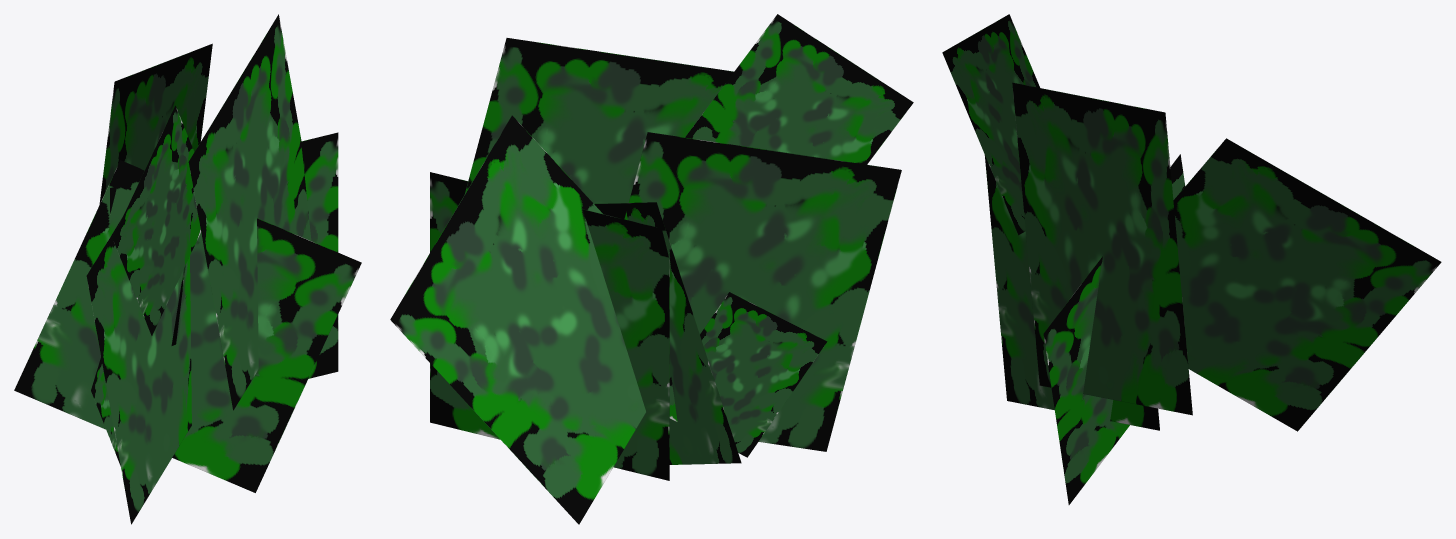
The model's file is bush.obj.
The picture shows the model from 3 angles, left to right: view 1: azimuth 30°, elevation 25°; view 2: azimuth 150°, elevation 25°; view 3: azimuth 270°, elevation 25°; orthographic projection. The views are drawn at different scales.
Visible parts, largest first — view 1: Plane.005; view 2: Plane.005; view 3: Plane.005.
Boxes of the visible parts, bbox=[...] form: Plane.005: bbox=[14, 14, 361, 524]; Plane.005: bbox=[390, 14, 913, 524]; Plane.005: bbox=[942, 14, 1441, 504].
Bounding box in the file's own units: 3.07 × 3.65 × 3.77.
